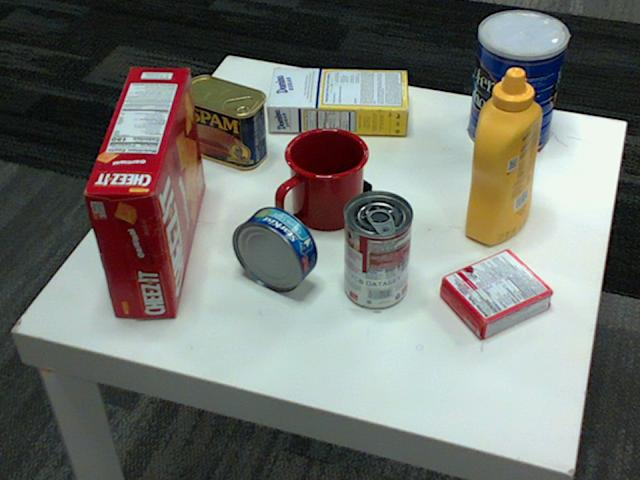cracker_box: (83, 64, 206, 315)
gelatin_box: (439, 249, 553, 339)
large_marker: (299, 140, 370, 196)
master_chef_can: (466, 11, 567, 154)
mug: (279, 125, 370, 227)
mustard_bottle: (464, 68, 542, 244)
potted_meat_can: (177, 76, 267, 169)
sugar_box: (267, 67, 409, 133)
tomato_soup_can: (343, 190, 413, 309)
tuna_fish_can: (233, 207, 318, 292)
